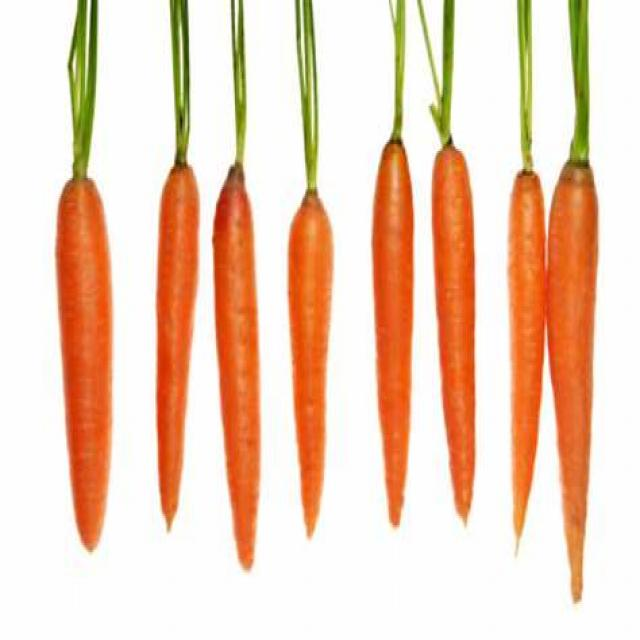Carrot: (544, 160, 604, 610), (50, 180, 118, 556), (205, 165, 267, 565), (436, 150, 484, 524), (370, 143, 416, 522), (150, 161, 196, 532), (285, 191, 334, 534), (503, 167, 544, 549)
